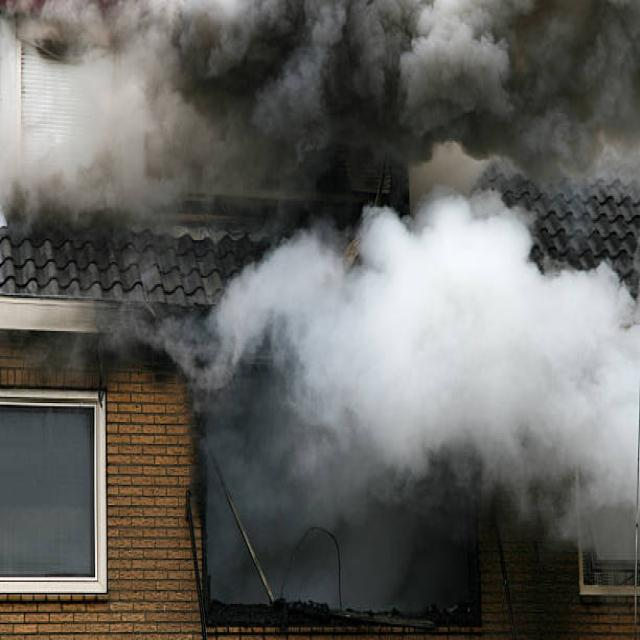smoke: (23, 0, 640, 599)
